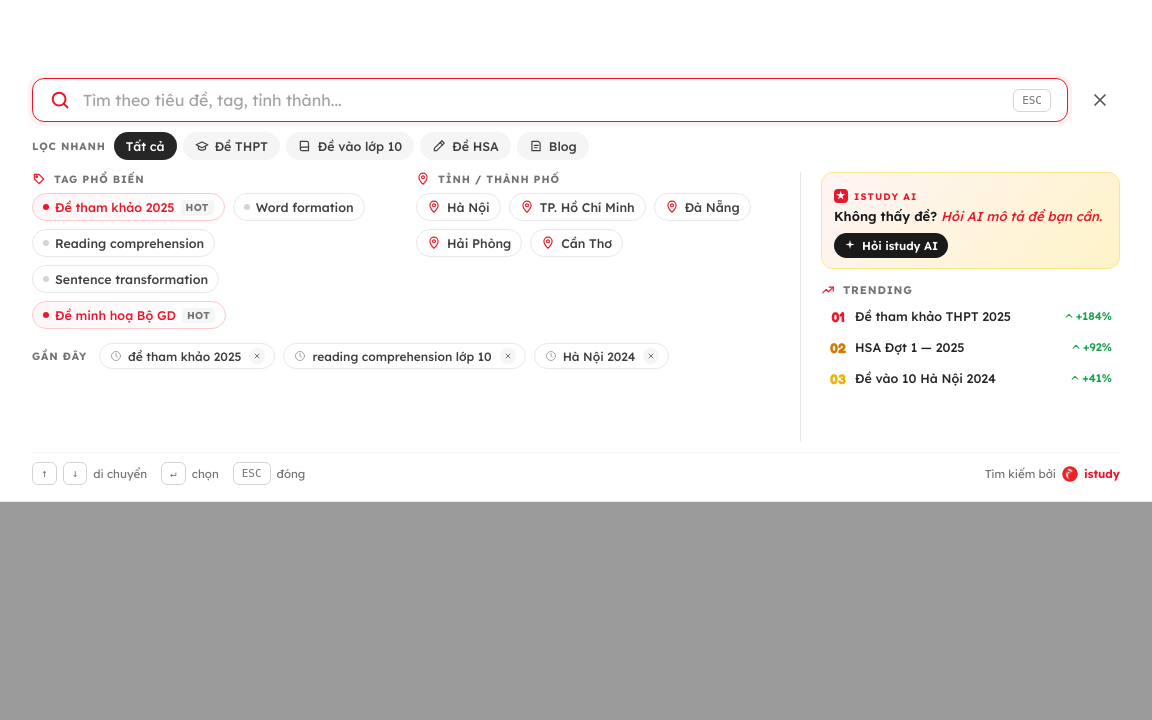
Test: SearchPopup — API branches › fetch error shows error branch + retry
Type "x" into the field with placeholder "Tìm theo tiêu đề, tag, tỉnh thành..." at (542, 100), box [83, 90, 1001, 110]
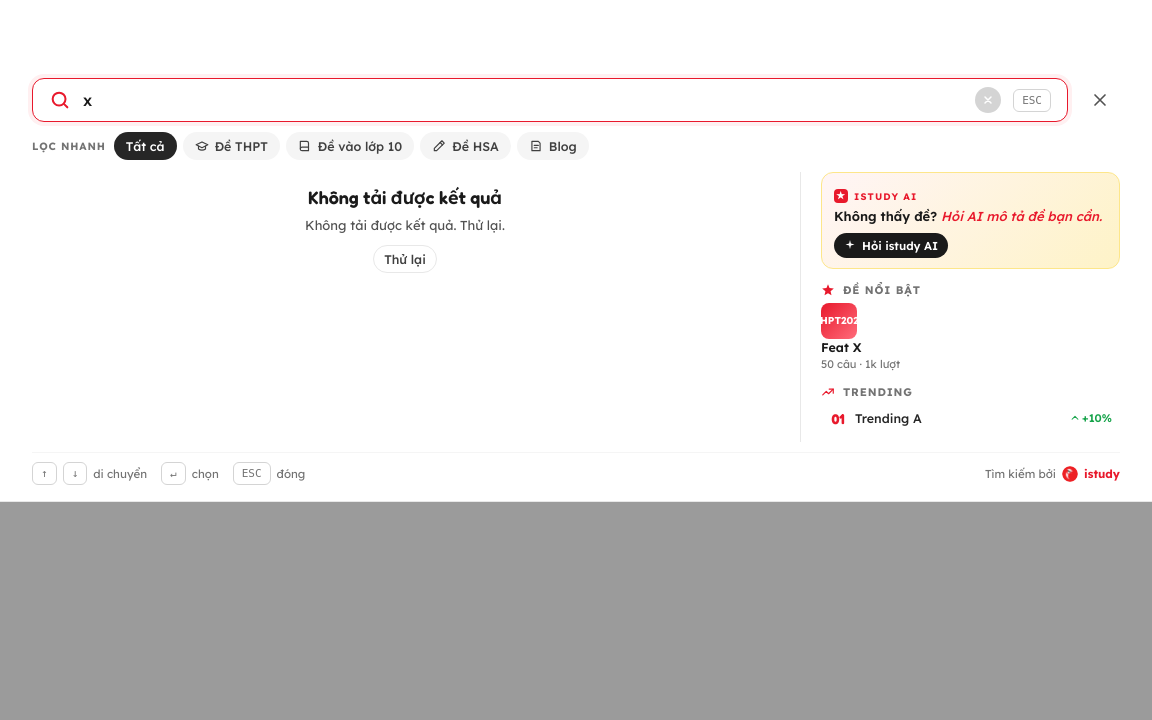
expect the heading "Không tải được kết quả" is shown: met, box [308, 186, 502, 208]
expect the button "Thử lại" is shown: met, box [373, 245, 437, 273]
